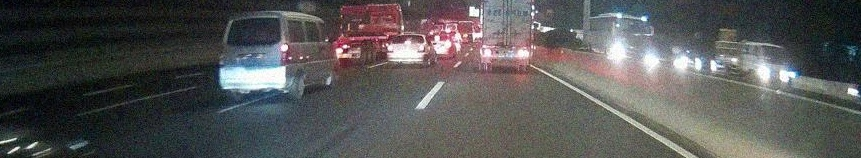L_light: (217, 46, 226, 66)
R_light: (280, 43, 291, 65)
T_light: (387, 45, 394, 53), (418, 44, 425, 52), (248, 18, 260, 22), (404, 41, 411, 44)
night-brake: (387, 34, 427, 66)
night-right: (217, 11, 292, 99)
